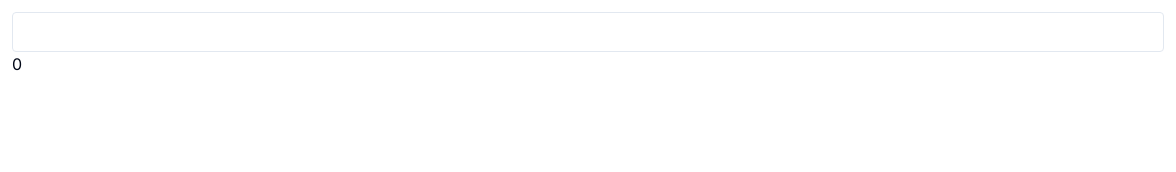
Test: CurrencyInput › digitação (máscara em tempo real) › digitar "5" produz R$ 0,05
The image size is (1176, 172).
Click the field. click: (588, 32)
box: [12, 12, 1164, 52]
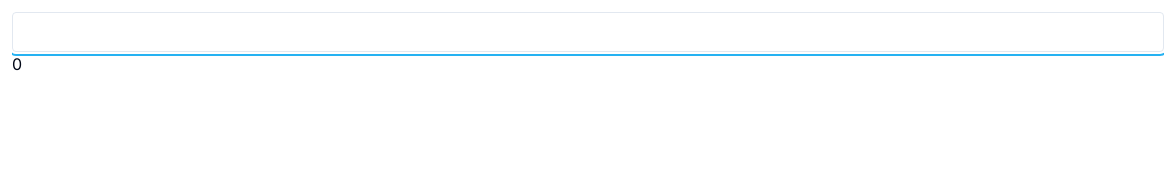
Type keys "5"
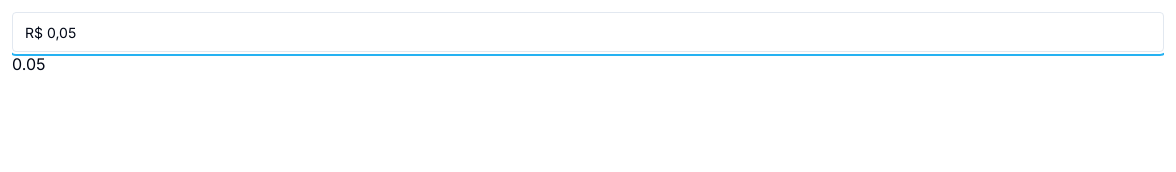
Now the text with test id "raw" reads "0.05", box [12, 54, 46, 74]
